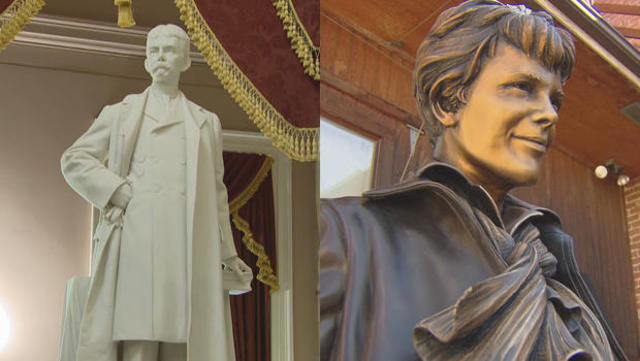person-like: (319, 3, 624, 361), (55, 20, 255, 361)
